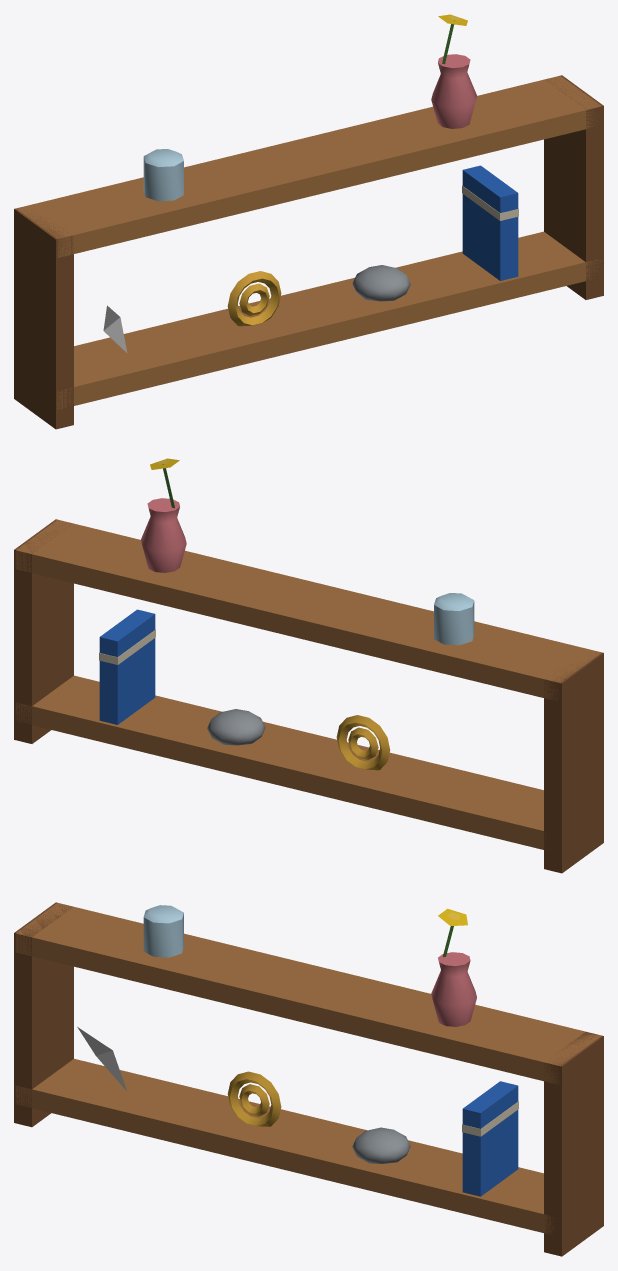
Rendered from treasures_shelf.glb.
3 views of the same model, one above another, from view 1: azimuth 30°, elevation 25°; view 2: azimuth 150°, elevation 25°; view 3: azimuth 330°, elevation 25° (orthographic).
Visible parts, largest first — view 1: furniture-treasures_shelf; view 2: furniture-treasures_shelf; view 3: furniture-treasures_shelf.
Boxes of the visible parts, x1=… form: furniture-treasures_shelf: x1=14, y1=14, x2=603, y2=429; furniture-treasures_shelf: x1=14, y1=458, x2=603, y2=873; furniture-treasures_shelf: x1=14, y1=902, x2=603, y2=1256.
Bounding box in the file's own units: 1.51 × 0.7761 × 0.2.
